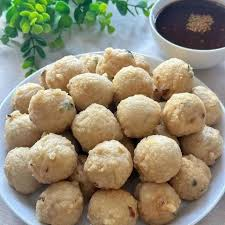Pempek adaan: (25, 131, 81, 183), (30, 183, 89, 224), (83, 140, 133, 186), (73, 104, 124, 147), (137, 181, 186, 225), (134, 136, 183, 179), (116, 91, 161, 137), (85, 187, 140, 223), (171, 156, 215, 200), (30, 87, 73, 130), (165, 92, 206, 137), (148, 54, 195, 93), (64, 71, 114, 106), (40, 55, 89, 88), (3, 148, 40, 191), (188, 125, 224, 163), (113, 65, 153, 96), (92, 45, 136, 73), (5, 110, 40, 144), (11, 76, 40, 111), (198, 85, 223, 123)
